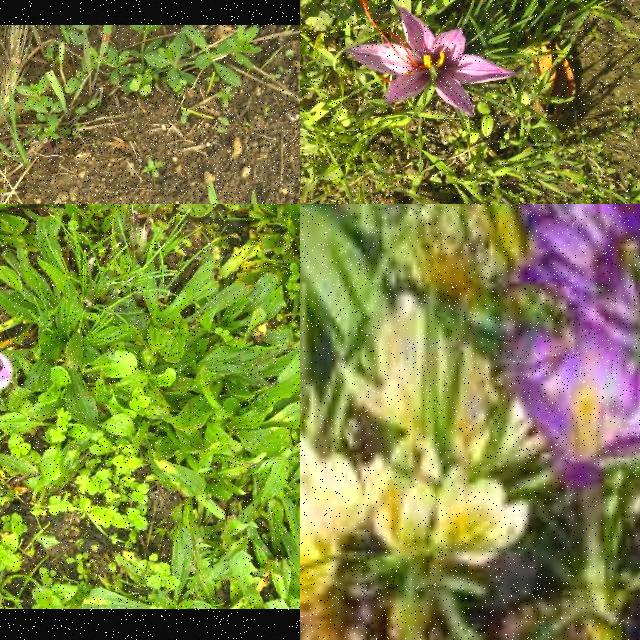flower: (349, 0, 521, 117), (0, 353, 13, 390)
